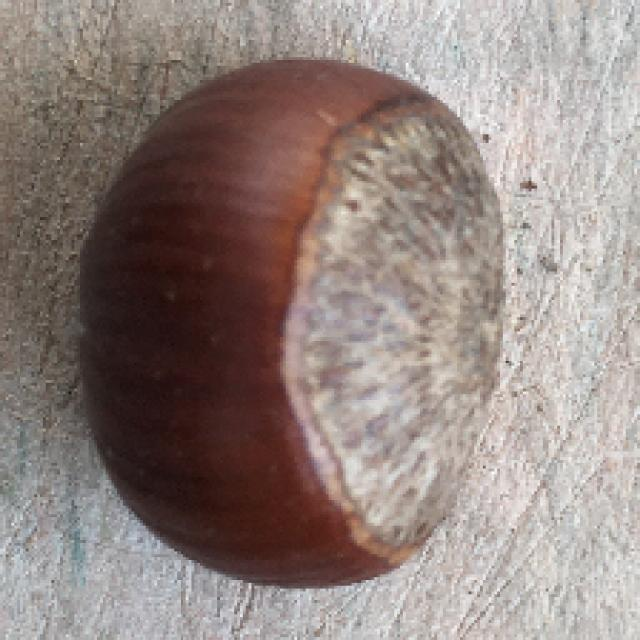qualityHazelnut: (74, 51, 502, 580)
